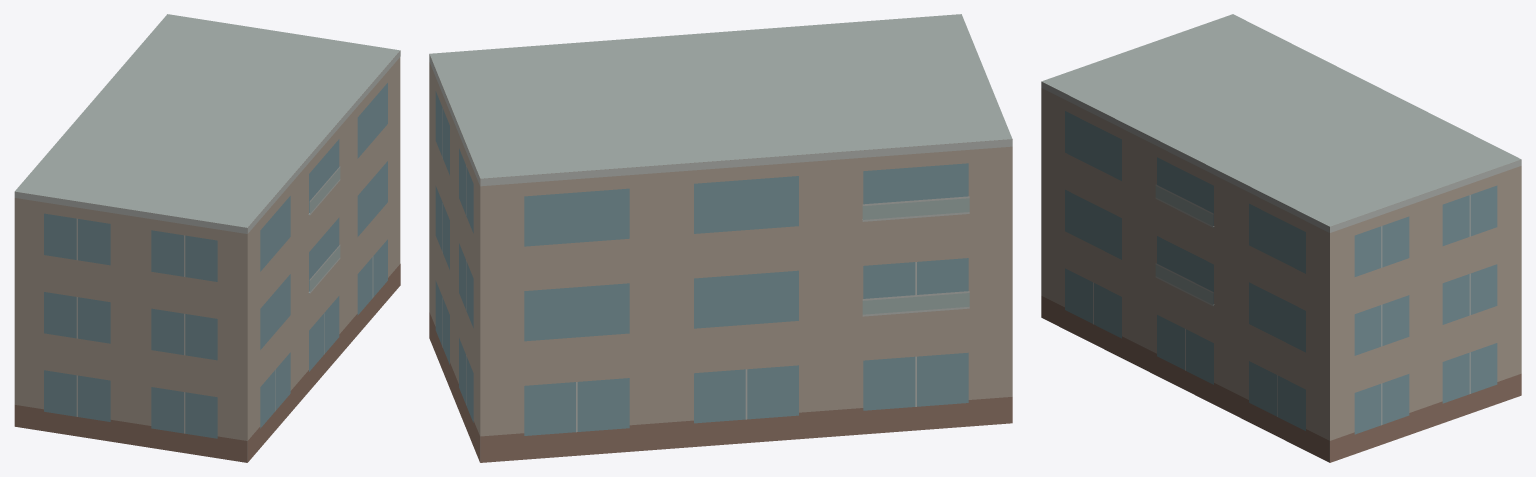
The model's file is survey-upis-33021399.glb.
3 views of the same model, side by side, from view 1: azimuth 30°, elevation 25°; view 2: azimuth 150°, elevation 25°; view 3: azimuth 270°, elevation 25° (orthographic). The views are drawn at different scales.
Visible parts, largest first — view 1: survey-upis-33021399.tmp; view 2: survey-upis-33021399.tmp; view 3: survey-upis-33021399.tmp.
Boxes of the visible parts, x1,y1,x2,y2 form: survey-upis-33021399.tmp: (14,14,400,462); survey-upis-33021399.tmp: (429,14,1012,462); survey-upis-33021399.tmp: (1041,14,1521,462).
Size of the model in its own units: 17.7 by 9.15 by 16.88.
